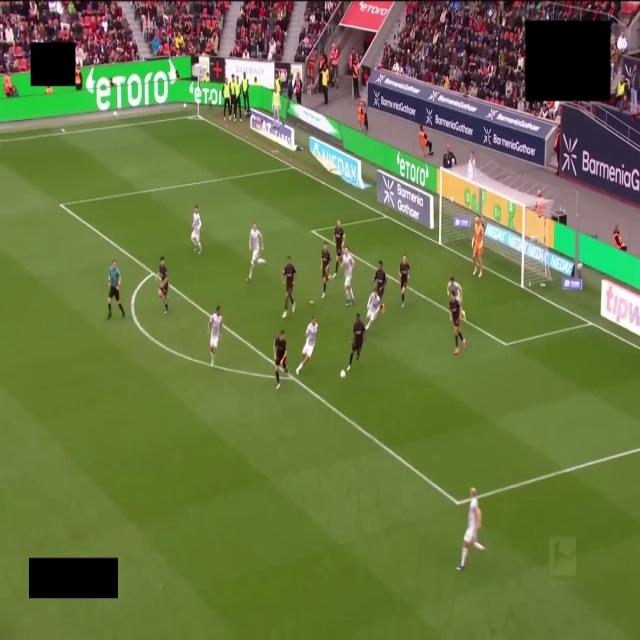ball: (340, 370, 345, 378)
player: (458, 488, 485, 570), (296, 317, 317, 375), (347, 313, 365, 371), (247, 224, 265, 282), (450, 294, 465, 354), (282, 256, 296, 318), (208, 306, 222, 367), (274, 330, 287, 389), (447, 277, 465, 319), (472, 216, 484, 277), (332, 220, 344, 278), (342, 247, 354, 305), (366, 288, 381, 330), (158, 256, 168, 313), (399, 256, 410, 307), (191, 206, 202, 254), (321, 243, 330, 298), (374, 261, 386, 301)
referee: (107, 261, 124, 319)
